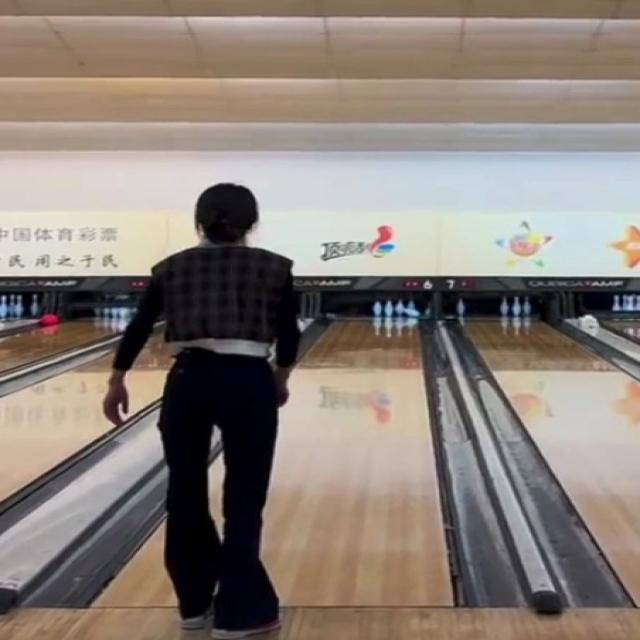alley: (262, 319, 450, 606), (99, 532, 171, 605)
bottle: (374, 300, 419, 317)
